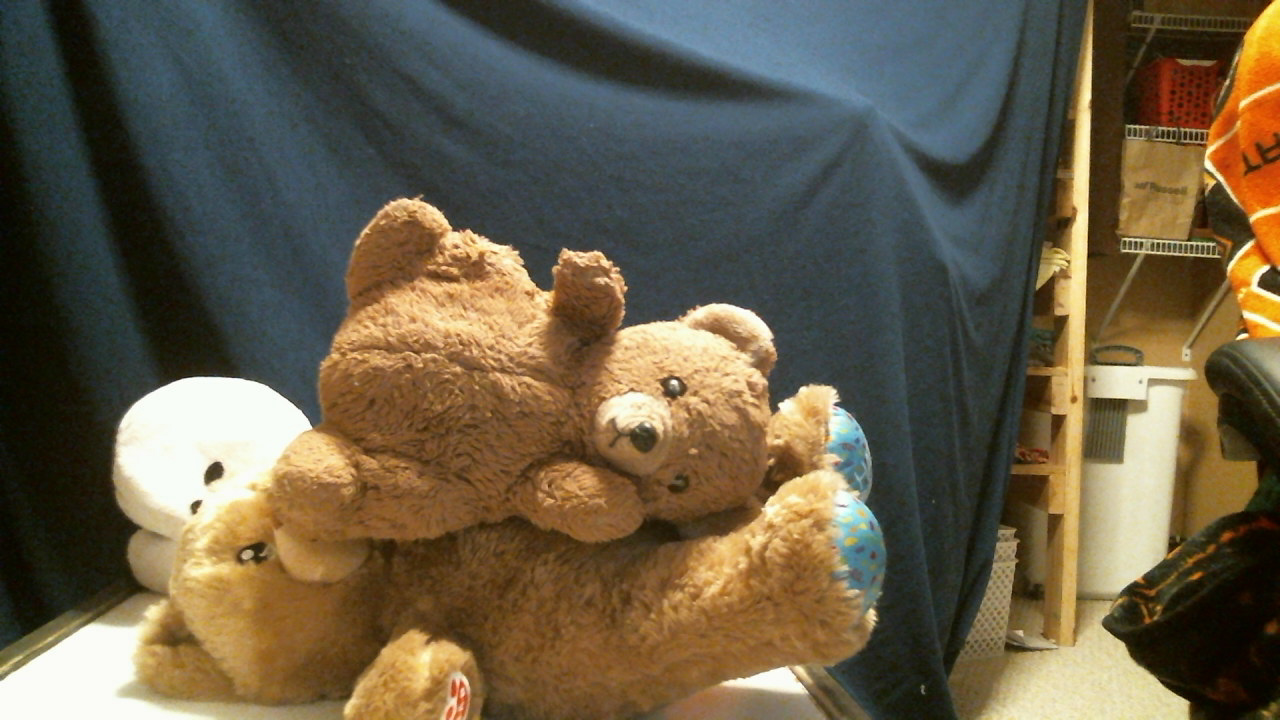Little_Mister_Bear: (574, 378, 728, 499)
